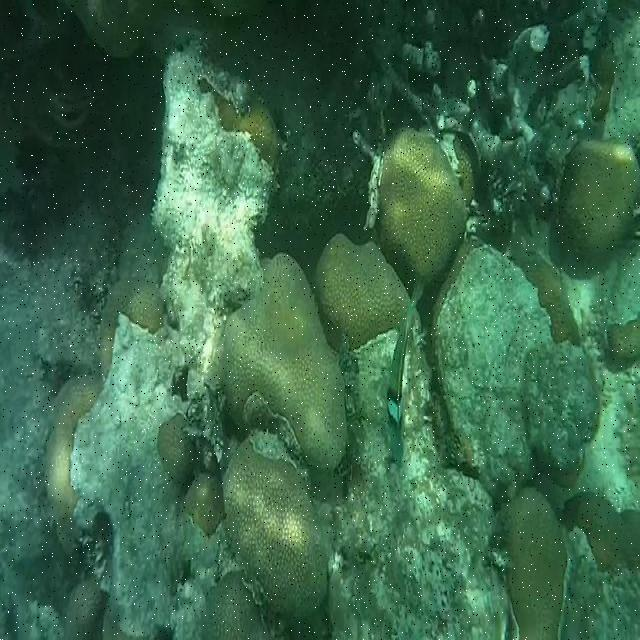fish: (387, 279, 425, 469)
reefs: (218, 254, 349, 470), (225, 438, 329, 619), (376, 129, 478, 275), (492, 486, 566, 638), (318, 231, 412, 349), (43, 378, 103, 555), (560, 143, 639, 257), (158, 416, 225, 539), (98, 277, 169, 377), (511, 250, 583, 345), (564, 494, 639, 574), (219, 99, 282, 167), (600, 320, 639, 370)
